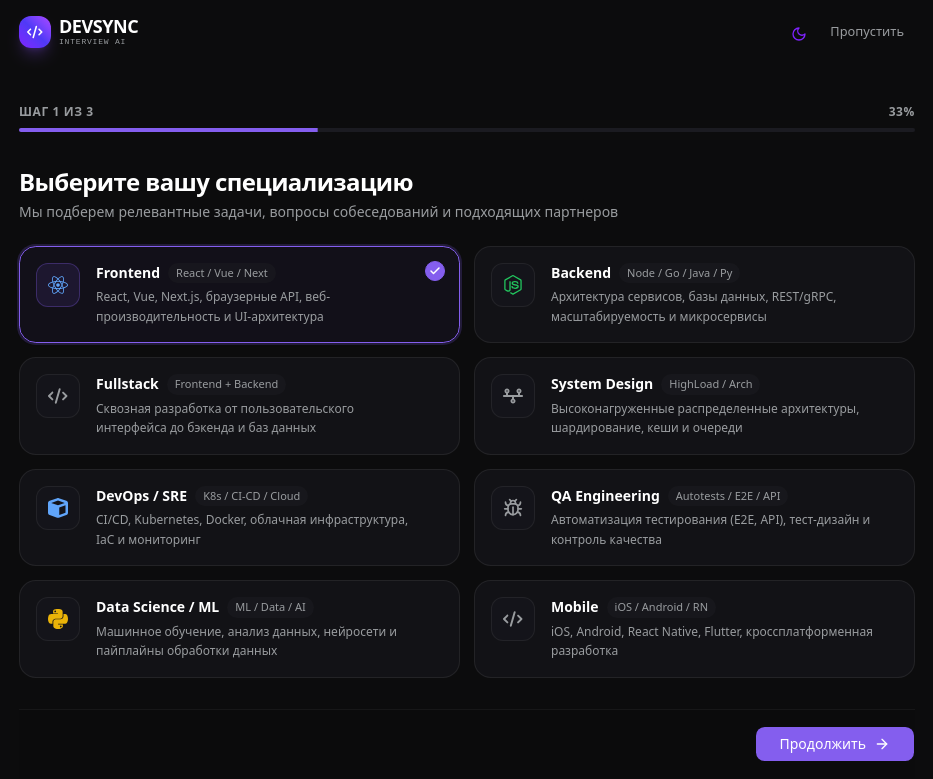
Test: OnboardingWizard › allows going back from Step 2 to Step 1
The image size is (933, 779).
Go to step 2
Click the button "Продолжить": (835, 744) [754,726,915,762]
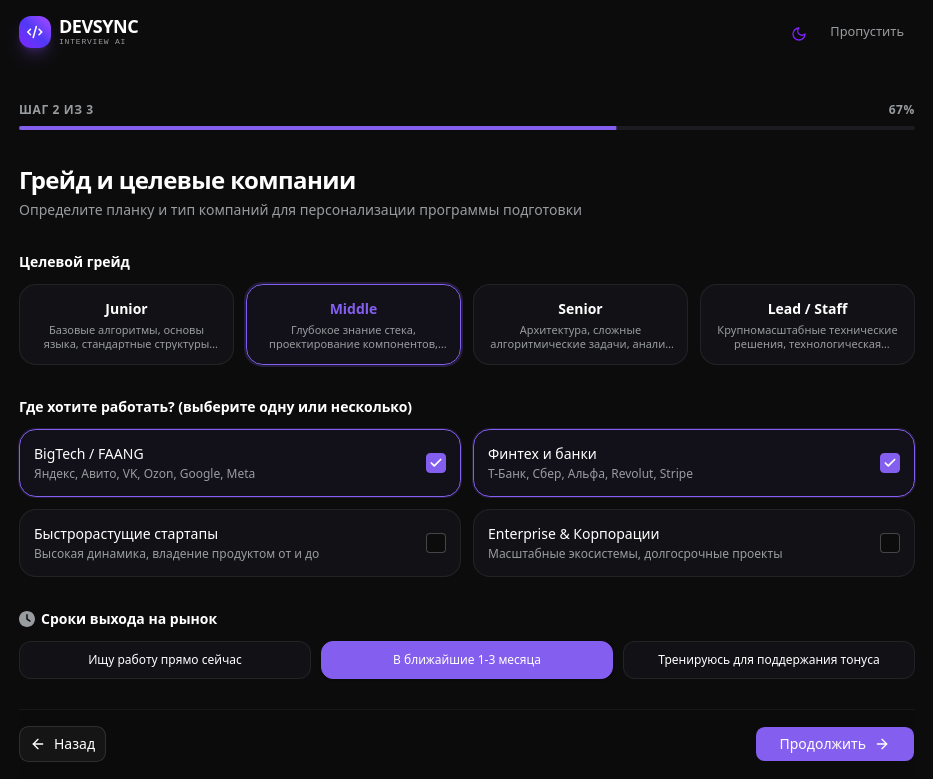
Now the text "Шаг 2 из 3" is shown, box [19,102,94,118]
Click Back
Click the button "Назад": (63, 744) [19,726,106,762]
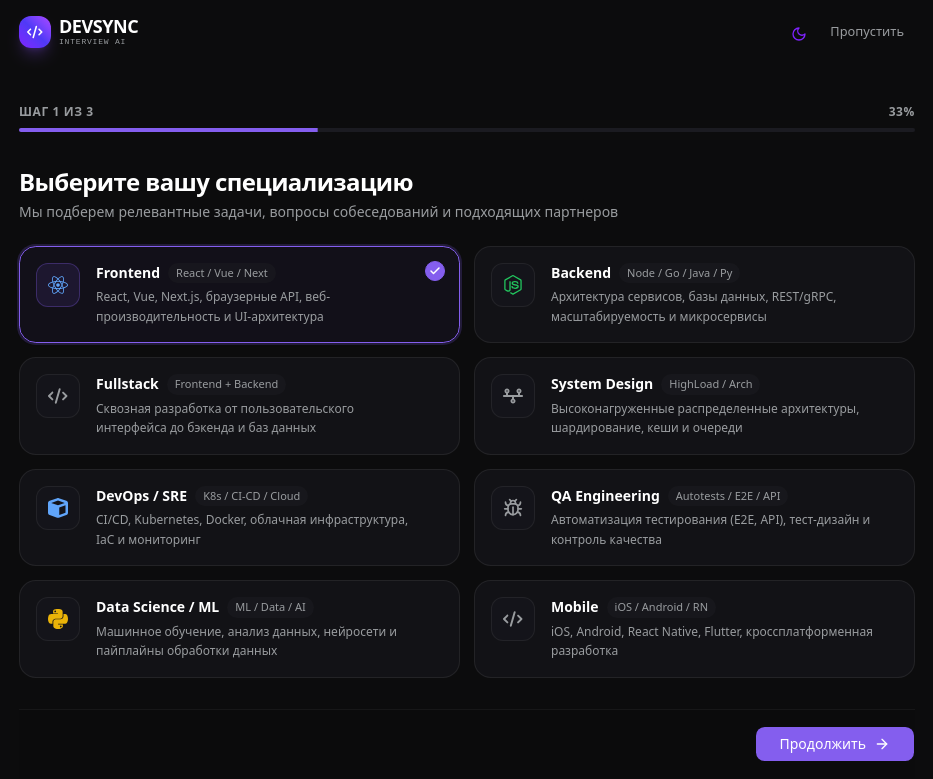
Now the text "Шаг 1 из 3" is shown, box [19,104,94,120]
